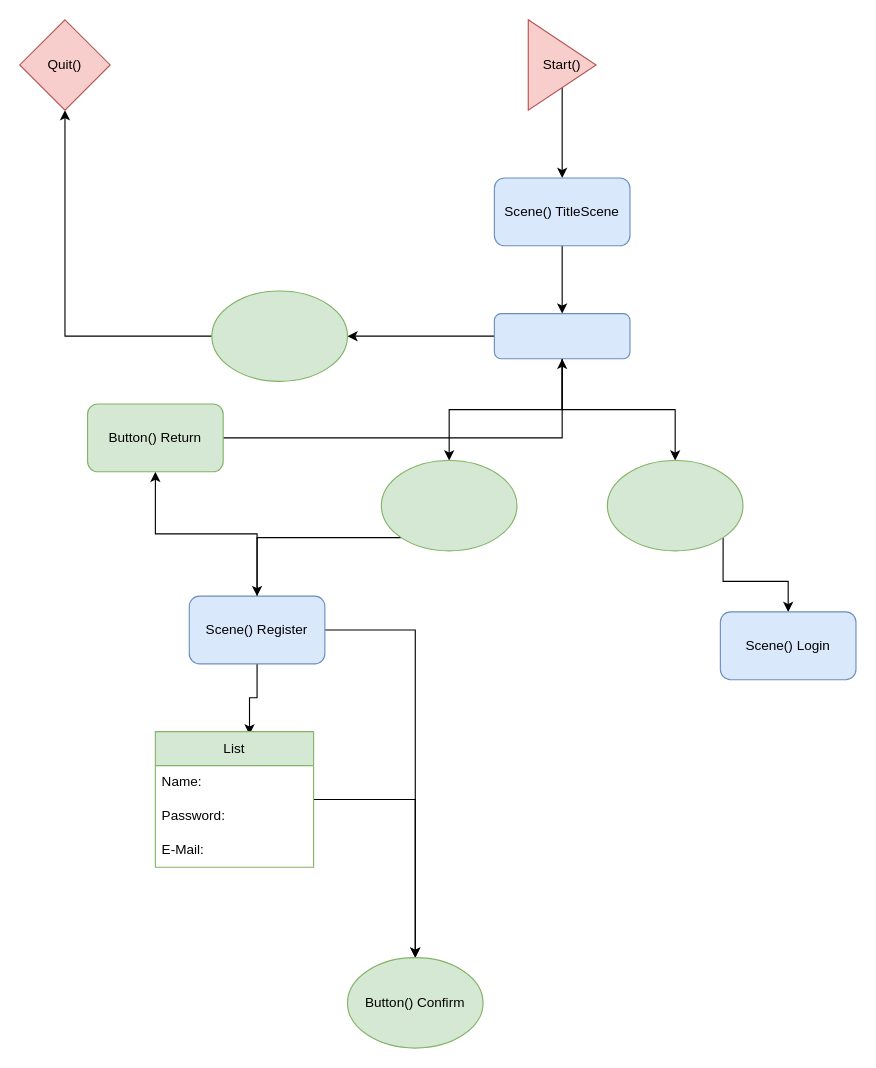
The diagram is 876 pixels wide and 1068 high, and some of its shapes have lost their labels. Each missing label, with the box of its shape:
Button() Login: (606, 459, 743, 551)
Button() Quit: (211, 290, 347, 381)
Button() Register: (380, 459, 517, 551)
Scene() Proceed: (493, 312, 630, 359)
